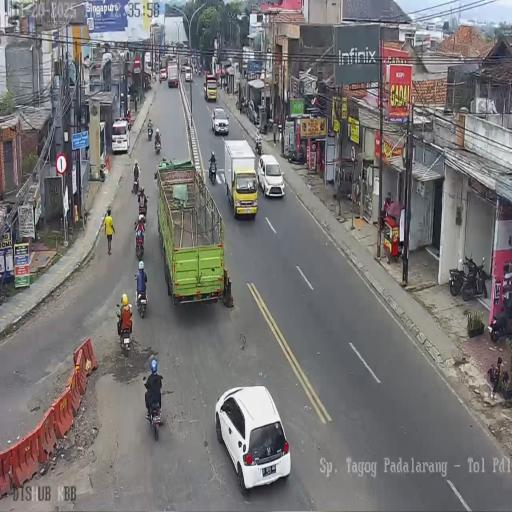3: (157, 159, 228, 309), (223, 139, 256, 220), (204, 74, 218, 102), (166, 61, 179, 88)
car: (215, 384, 292, 493), (257, 154, 285, 198), (111, 118, 130, 155), (211, 107, 229, 135), (184, 66, 192, 82), (159, 68, 167, 81)
truck: (449, 253, 487, 301), (144, 381, 163, 441), (490, 293, 512, 343), (117, 308, 133, 352), (135, 278, 148, 318), (286, 144, 305, 165), (134, 224, 145, 259), (138, 205, 147, 231), (209, 160, 217, 184), (255, 133, 262, 155), (132, 174, 139, 196), (240, 98, 249, 115), (154, 137, 160, 154), (147, 124, 153, 141), (127, 114, 132, 131), (198, 66, 202, 76), (194, 66, 198, 76)
